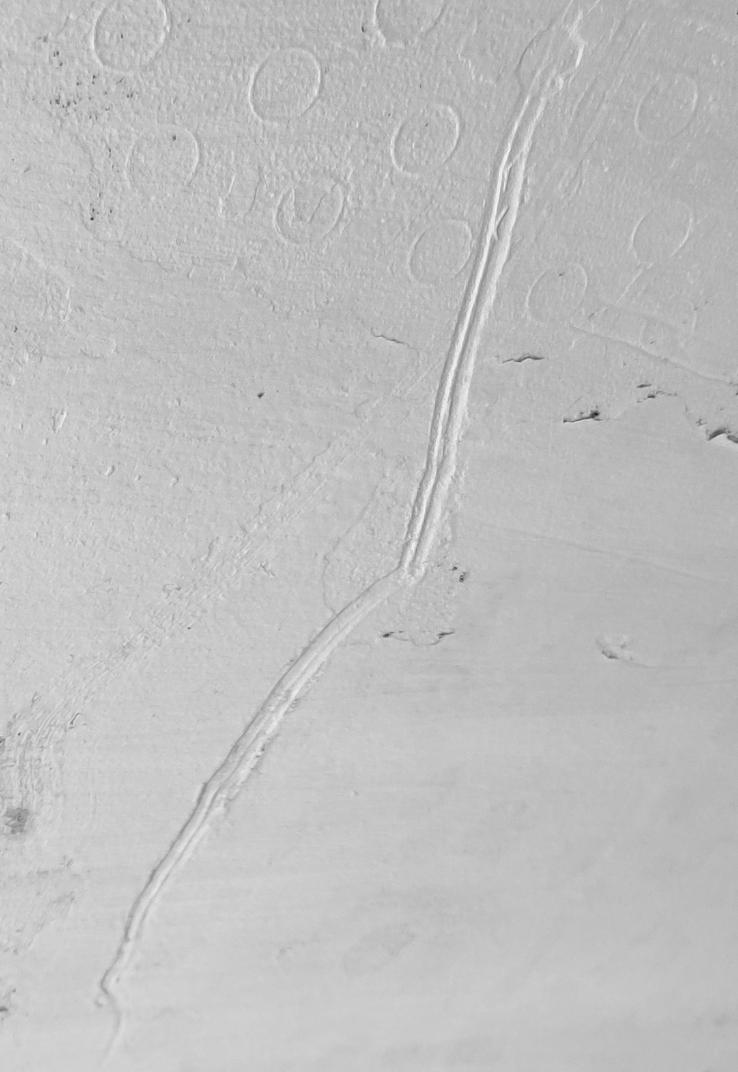scratch: (1, 1, 738, 1072)
